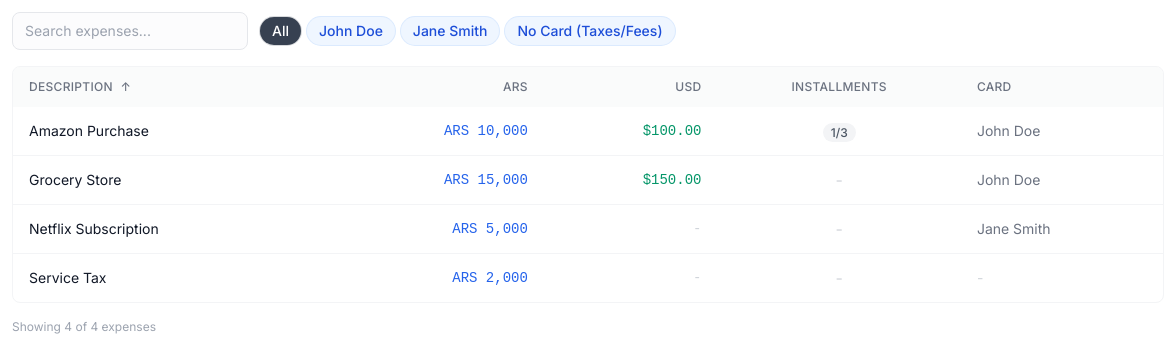
Scenario: ExpenseTable Component › Sorting Functionality › should toggle sort direction when clicking same column
expect the text "↑" is shown: met, box [120, 79, 131, 94]
Click to descending
Click the column heading "Description ↑".
click(71, 86)  # box [13, 67, 322, 107]
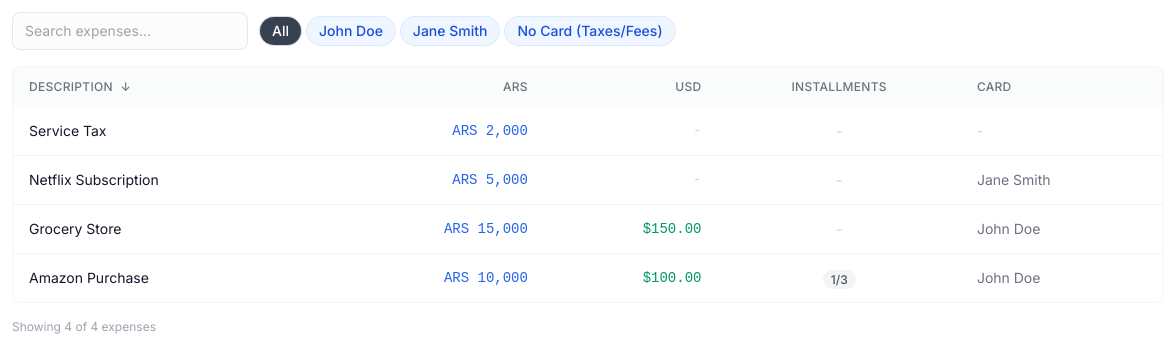
expect the text "↓" is shown: met, box [120, 79, 131, 94]
Click back to ascending
Click the column heading "Description ↓".
click(71, 86)  # box [13, 67, 322, 107]
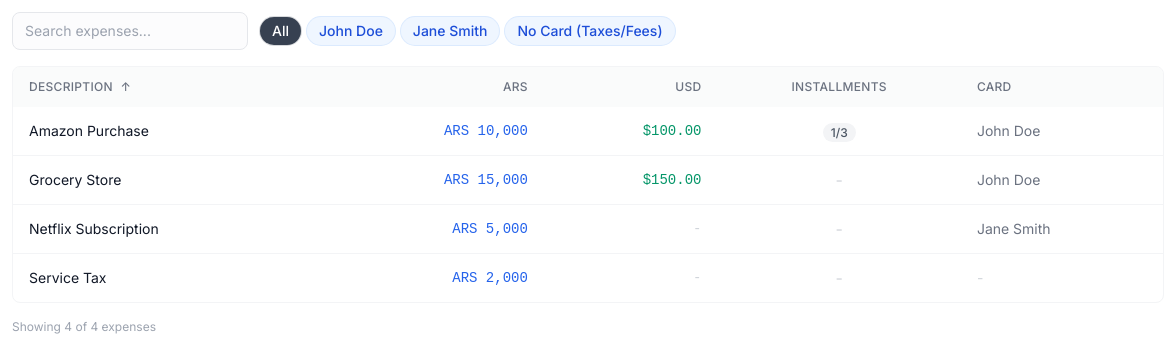
expect the text "↑" is shown: met, box [120, 79, 131, 94]
